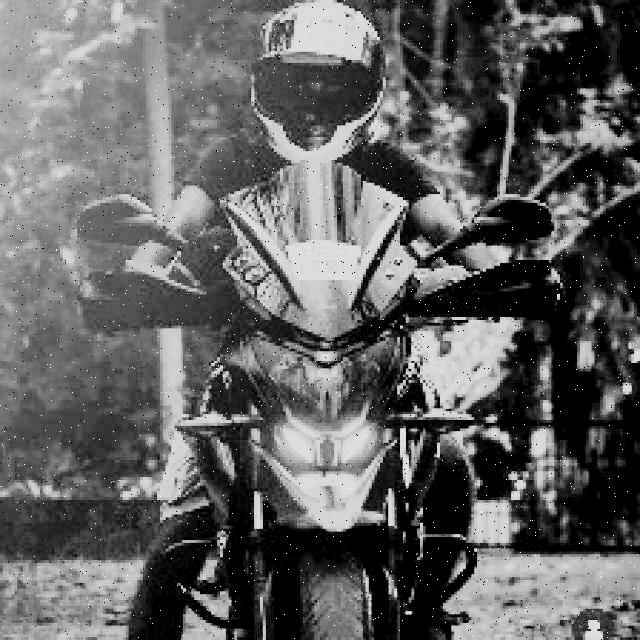Bike: (176, 191, 498, 639)
